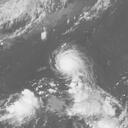cyclone: (50, 45, 92, 81)
